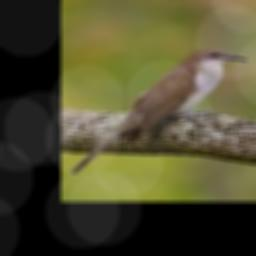Cuckoo: (68, 48, 248, 176)
